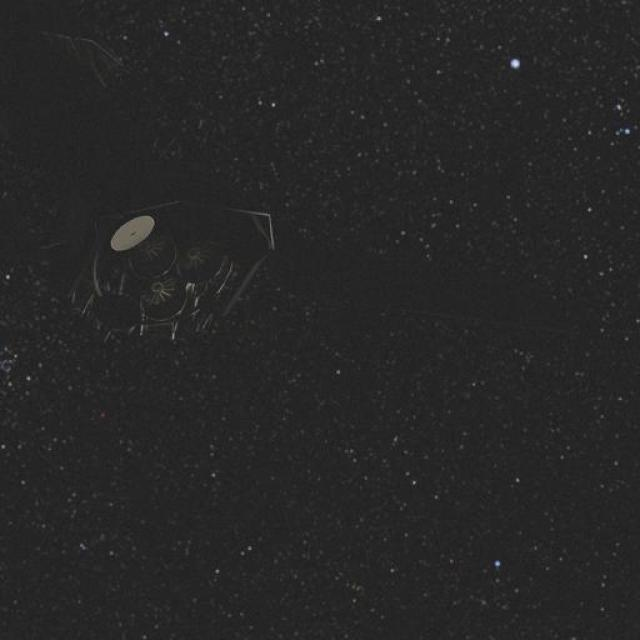xmm_newton: (49, 183, 289, 365)
